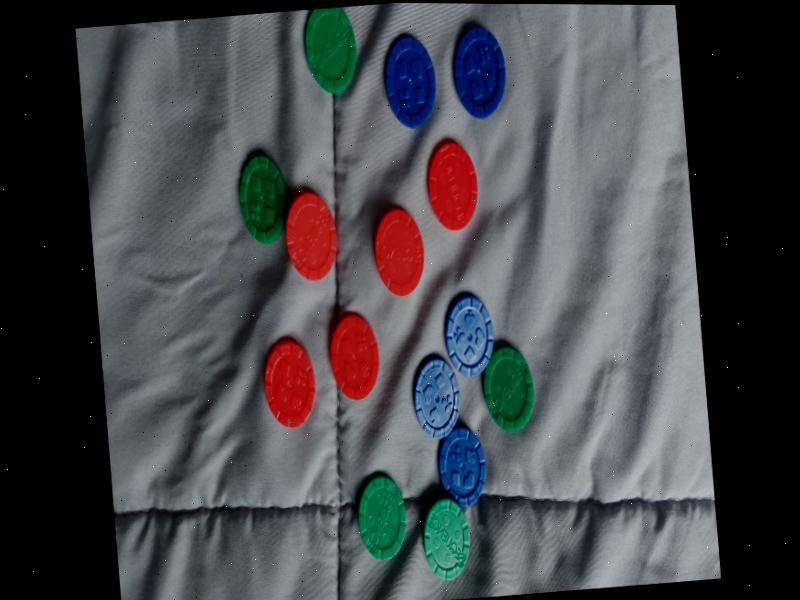Blue_Token: (401, 329, 466, 453), (373, 19, 440, 139), (444, 7, 511, 122), (438, 285, 498, 388), (433, 413, 491, 519)
Green_Token: (405, 490, 484, 594), (225, 140, 290, 249), (293, 5, 361, 108), (345, 468, 411, 573), (474, 336, 539, 439)
Red_Token: (247, 326, 330, 447), (361, 186, 431, 303), (324, 301, 388, 415), (423, 129, 483, 241), (281, 185, 337, 281)
